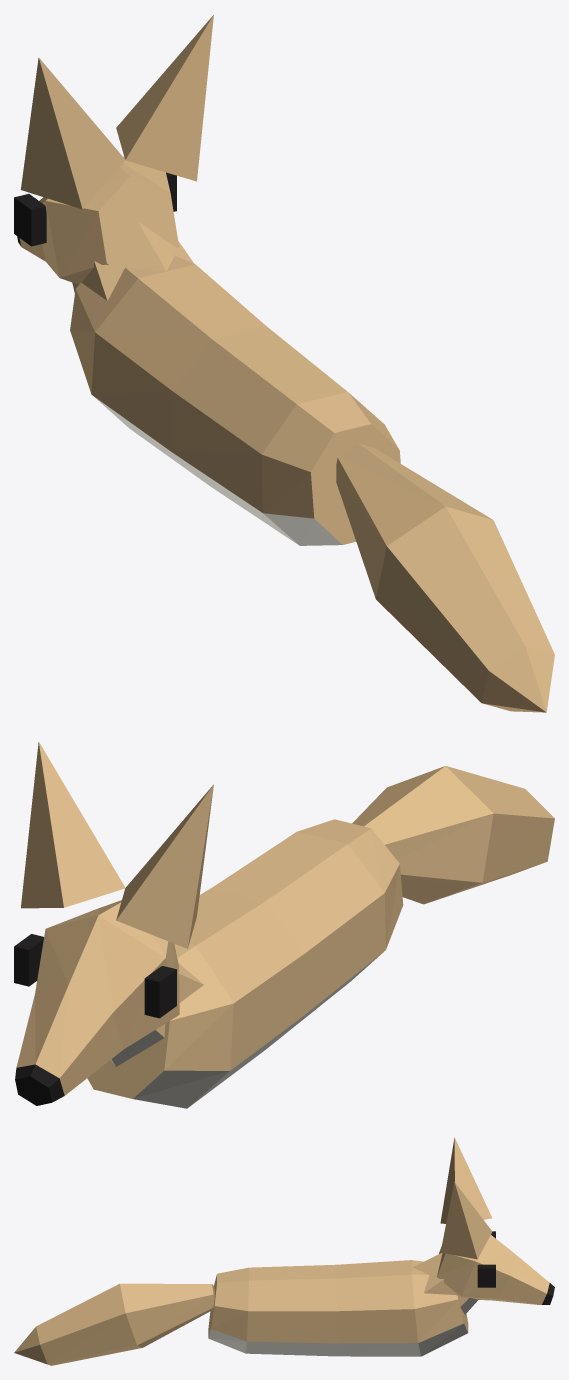
File: animal_fox_fennec.obj
The picture shows the model from 3 angles, top to bottom: view 1: azimuth 30°, elevation 25°; view 2: azimuth 150°, elevation 25°; view 3: azimuth 270°, elevation 25°; orthographic projection. The views are drawn at different scales.
Visible parts, largest first — view 1: animal_fox_fennec; view 2: animal_fox_fennec; view 3: animal_fox_fennec.
Boxes of the visible parts, x1,y1,x2,y2 form: animal_fox_fennec: (14, 15, 554, 712); animal_fox_fennec: (14, 742, 554, 1108); animal_fox_fennec: (14, 1137, 554, 1365).
Bounding box in the file's own units: 0.1856 × 0.3986 × 0.9466.
